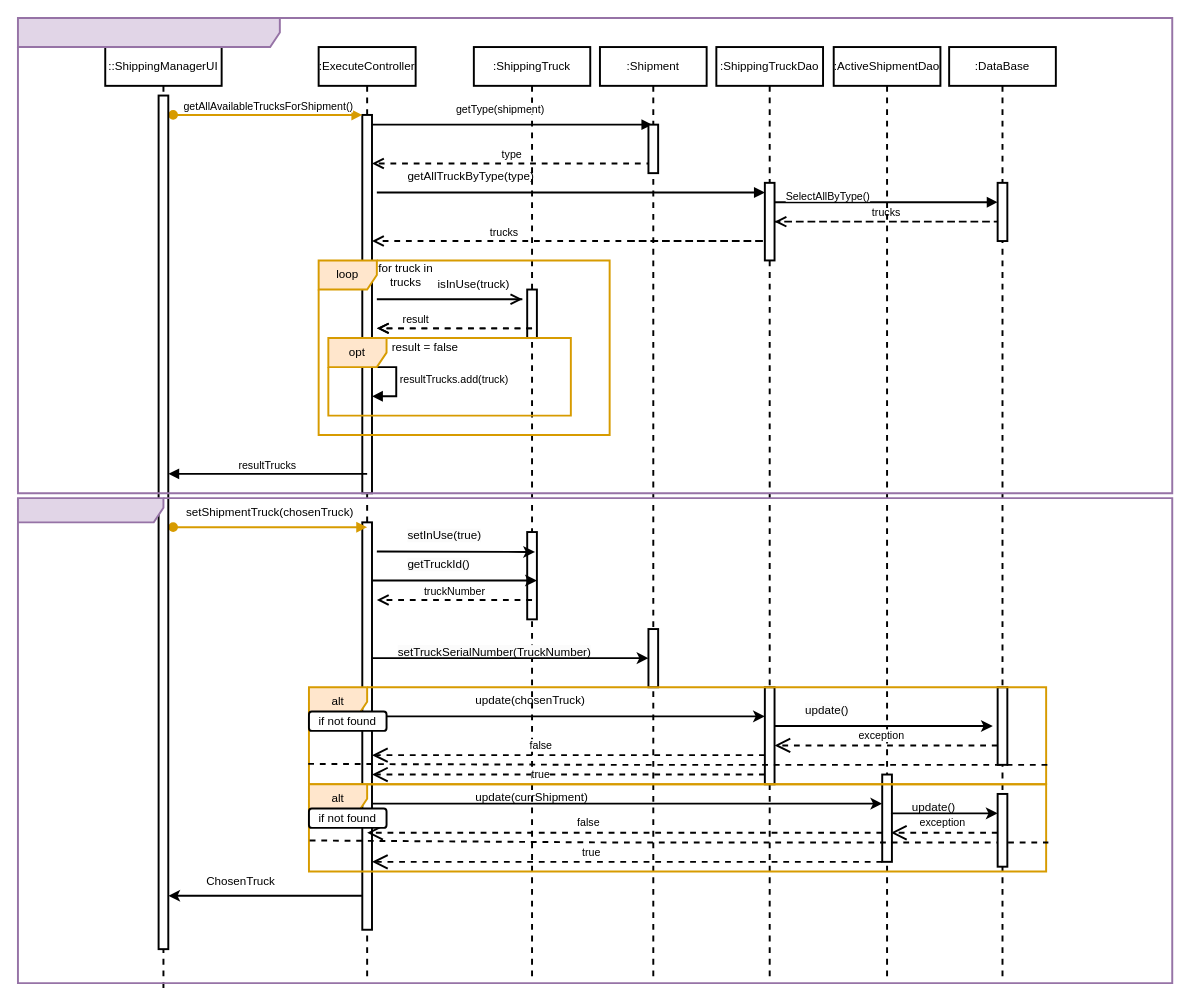
This 1189x1005 diagram has some shape labels left out. Each missing label, with the box of its shape:
sd getAllAvailableTrucksForShipment(): (16, 16, 1173, 494)
sd setShipmentTruck: (16, 497, 1173, 984)
